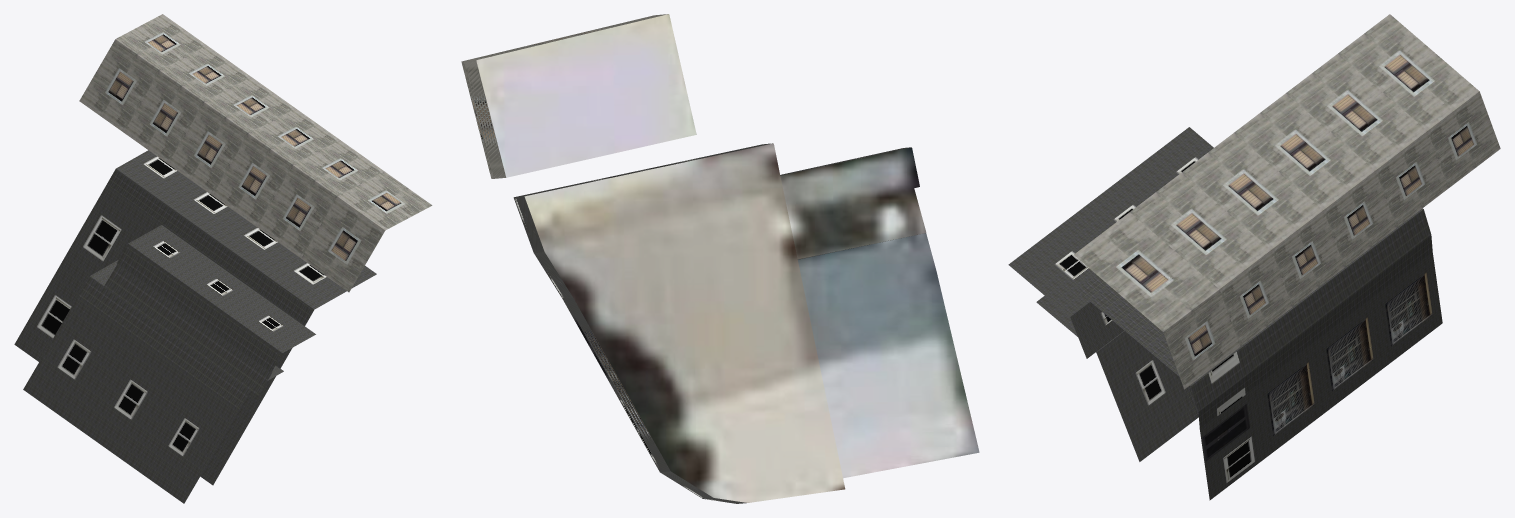
3 renders of one model, left to right at view 1: azimuth 30°, elevation 25°; view 2: azimuth 150°, elevation 25°; view 3: azimuth 270°, elevation 25°, orthographic. The views are drawn at different scales.
Size of the model in its own units: 23.32 by 22.95 by 22.28.
10 materials, 10 textured.
